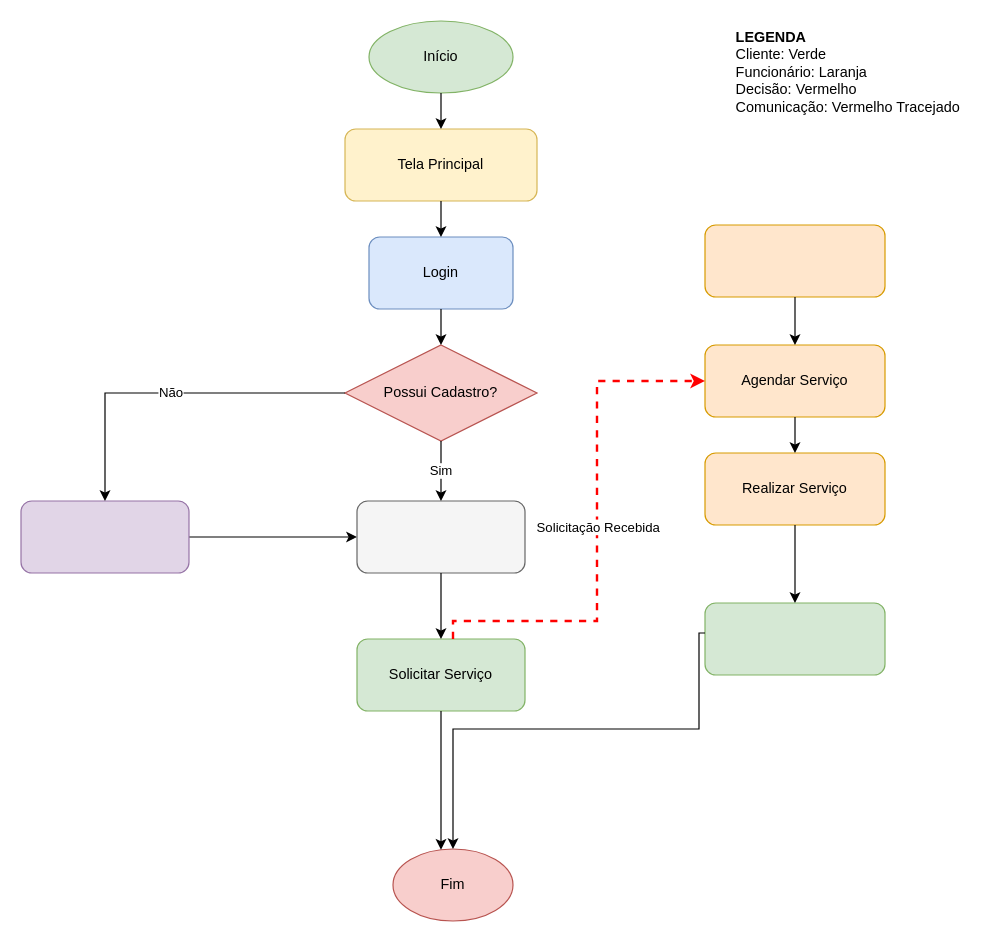
The diagram is 990 pixels wide and 942 high, and some of its shapes have lost their labels. The shapes that lost their labels are listed below. From the top down, each one's centre as x and y in pixels, then its label:
At (794,260): "Login Funcionário".
At (104,536): "Cadastro".
At (440,536): "Home Cliente".
At (794,638): "Serviço Finalizado".
